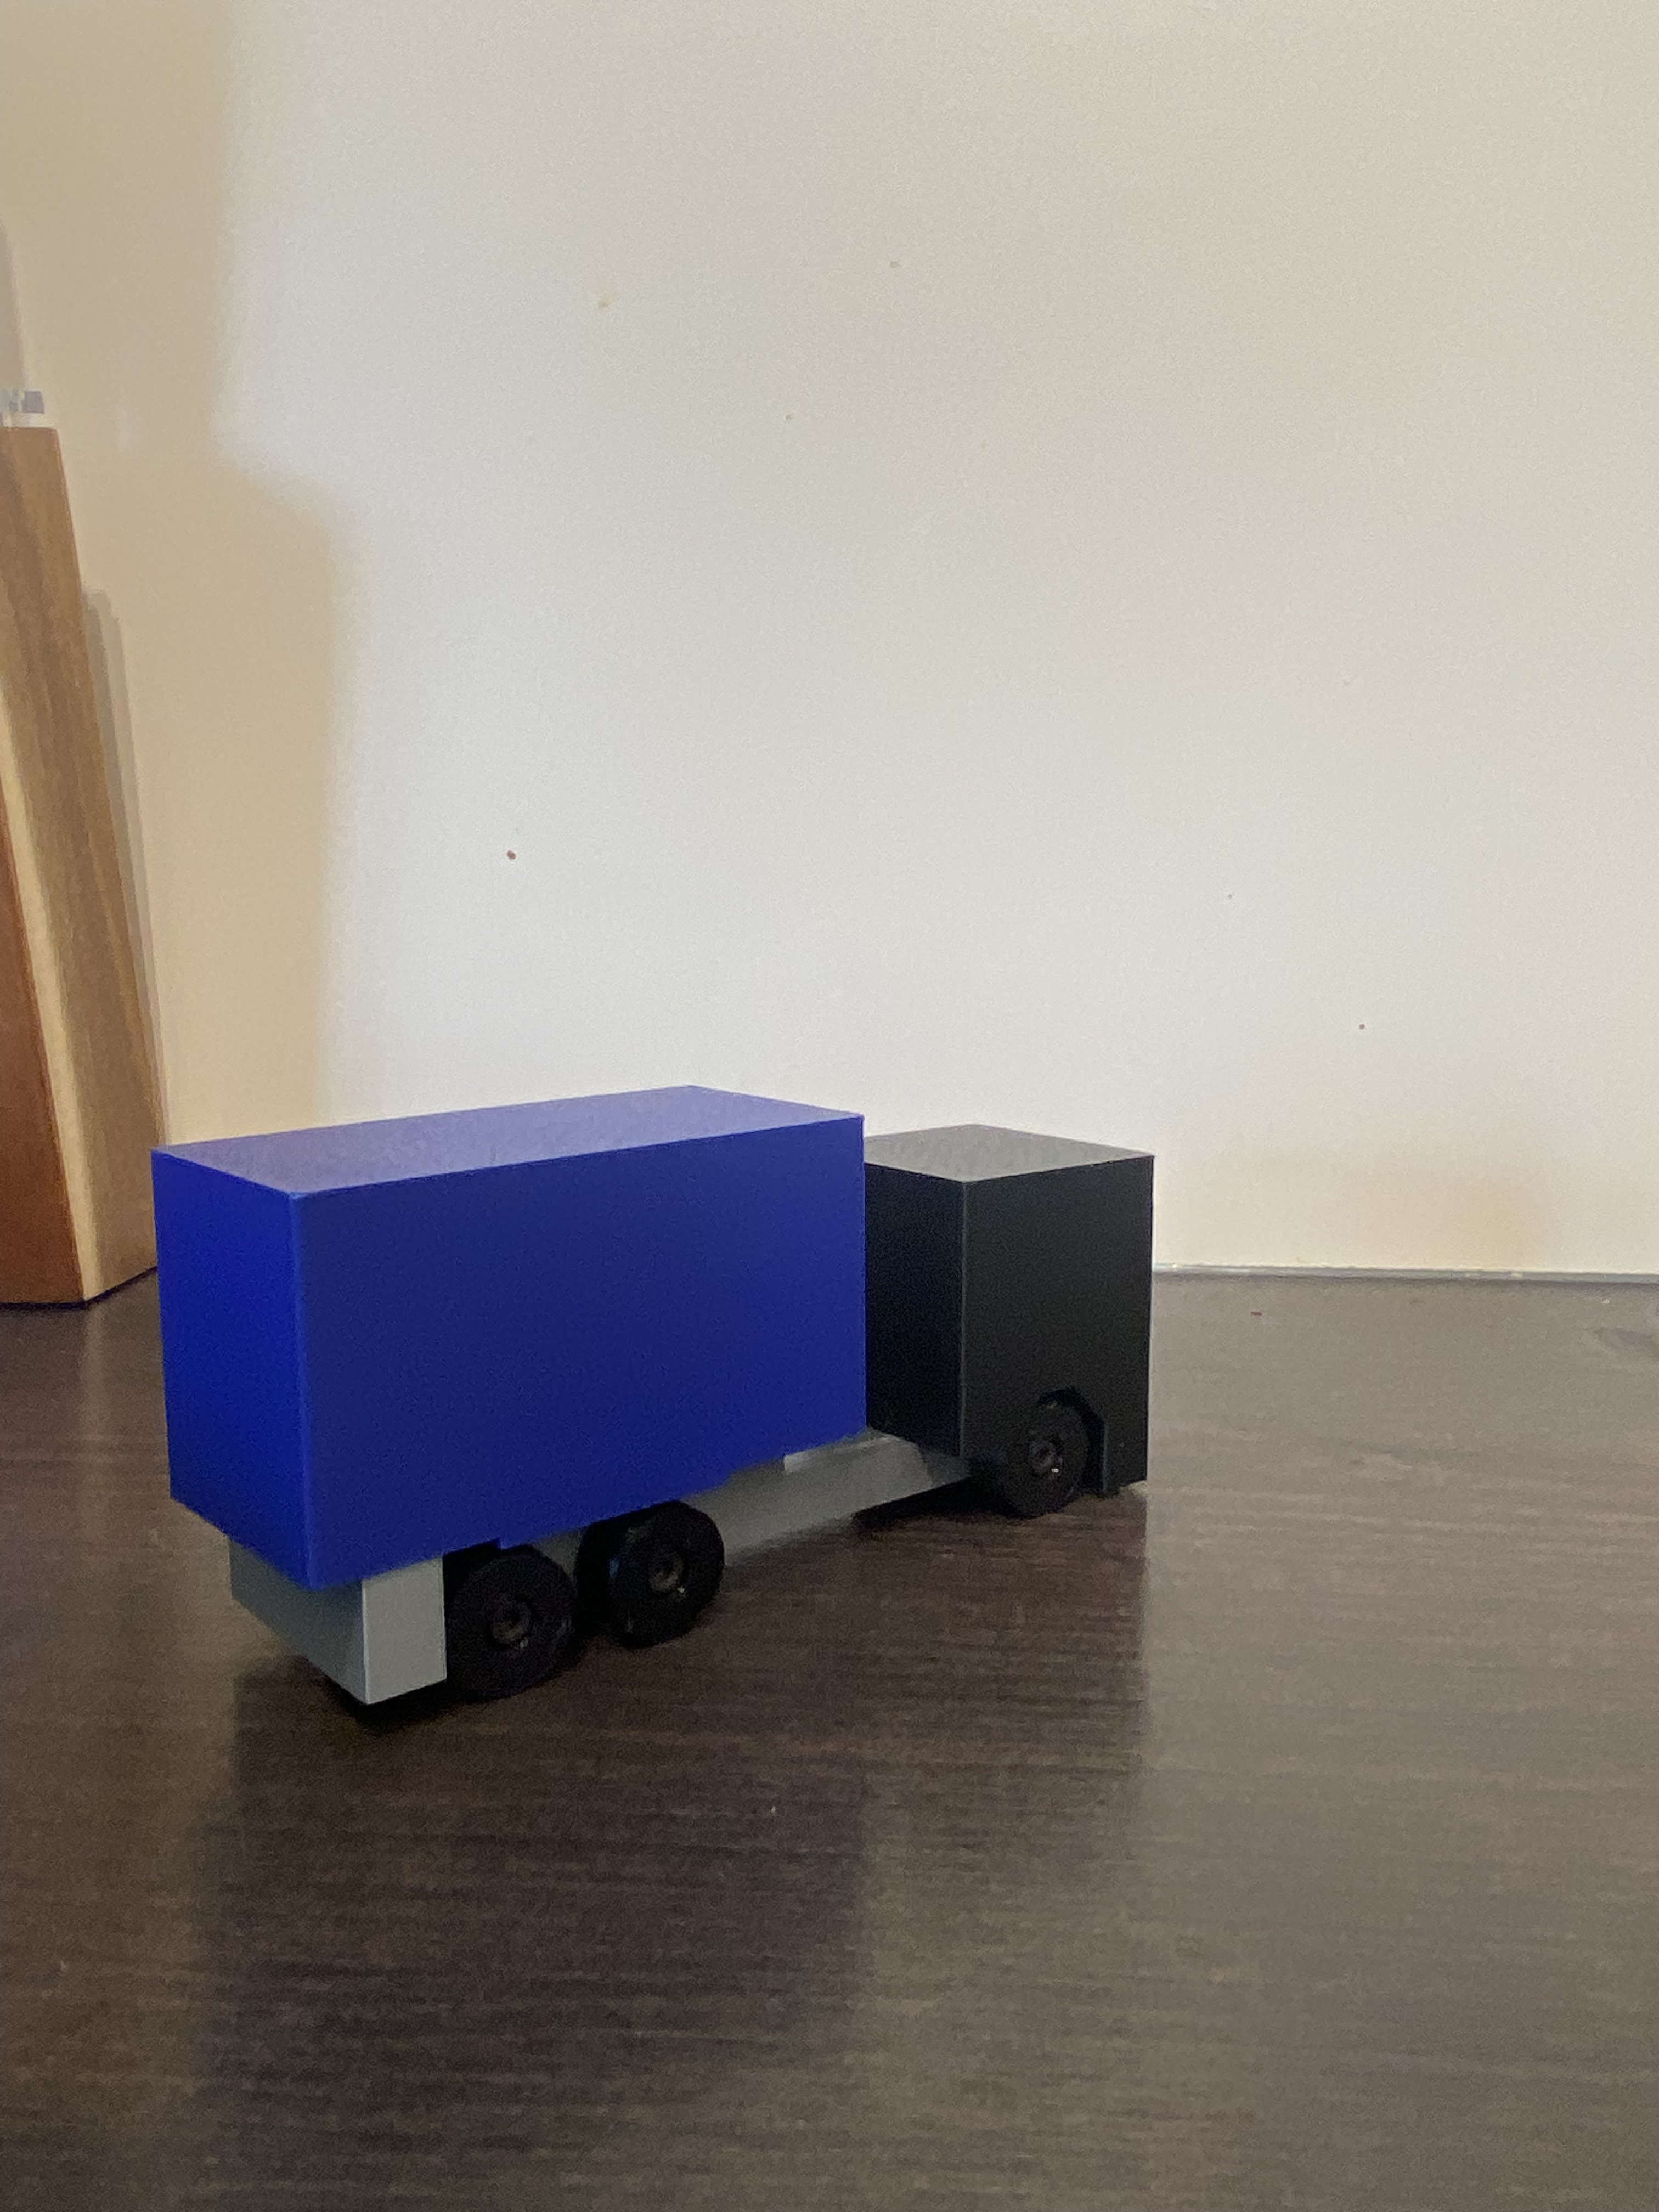blue_truck: (153, 1075, 1159, 1731)
